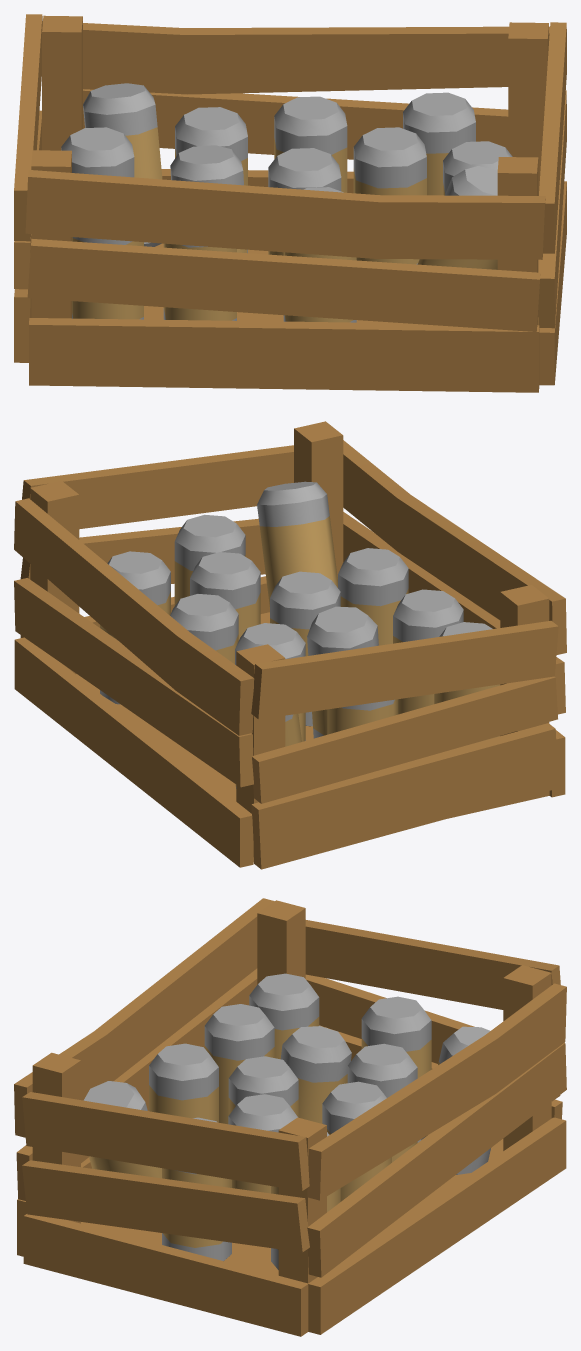
File: Beer_box.fbx
3 views of the same model, one above another, from view 1: azimuth 30°, elevation 25°; view 2: azimuth 150°, elevation 25°; view 3: azimuth 270°, elevation 25° (orthographic). The views are drawn at different scales.
Visible parts, largest first — view 1: polySurface739; view 2: polySurface739; view 3: polySurface739.
Boxes of the visible parts, x1,y1,x2,y2 form: polySurface739: (14,14,566,392); polySurface739: (14,421,566,869); polySurface739: (14,898,566,1336).
Bounding box in the file's own units: 85.95 × 31.05 × 80.17.
